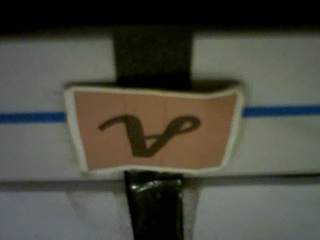A: (73, 91, 226, 168)
